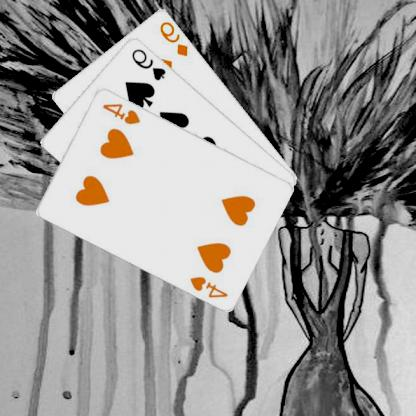4H: (189, 273, 231, 299), (101, 100, 143, 125)
9D: (158, 18, 192, 57)
9S: (130, 45, 170, 82)
